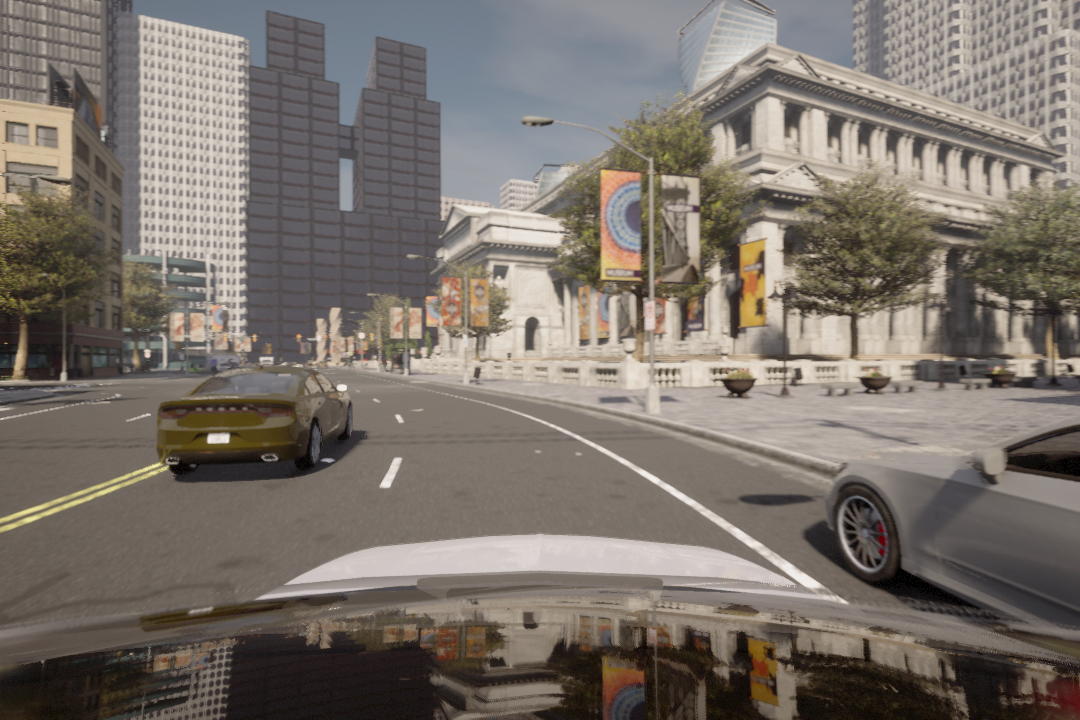TrafficSign: (645, 301, 656, 331)
